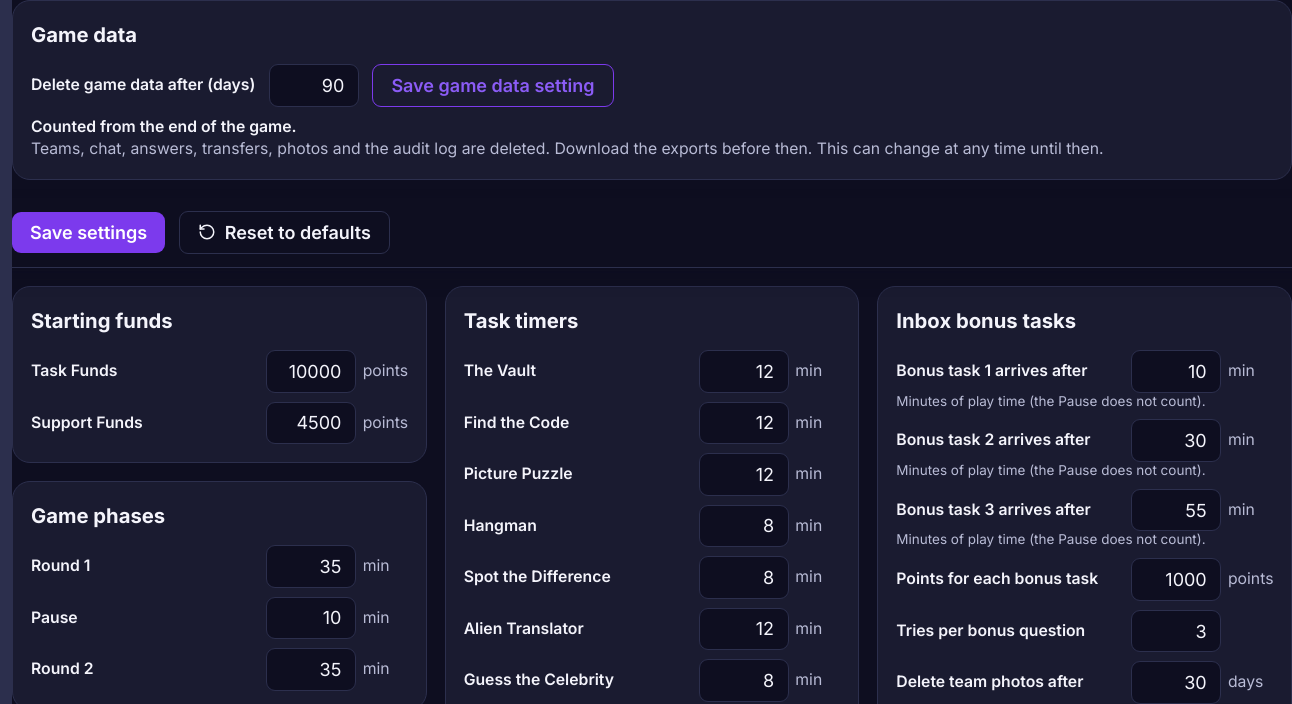
Test case: settings tab › saves minutes as seconds
The image size is (1292, 704).
Replace the text in the field labelled "Round 1" with "2" at (311, 566), box [266, 545, 356, 588]
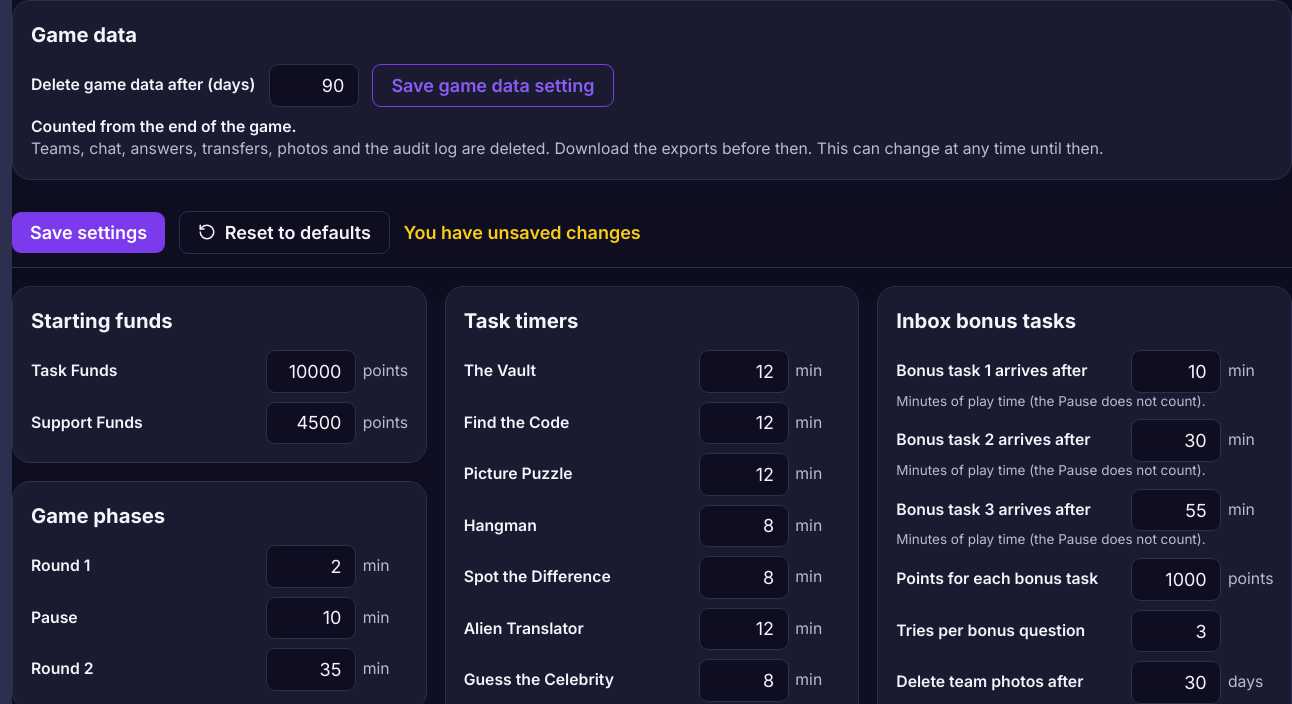
Click the button "Save settings" at (89, 232), box [12, 212, 165, 252]
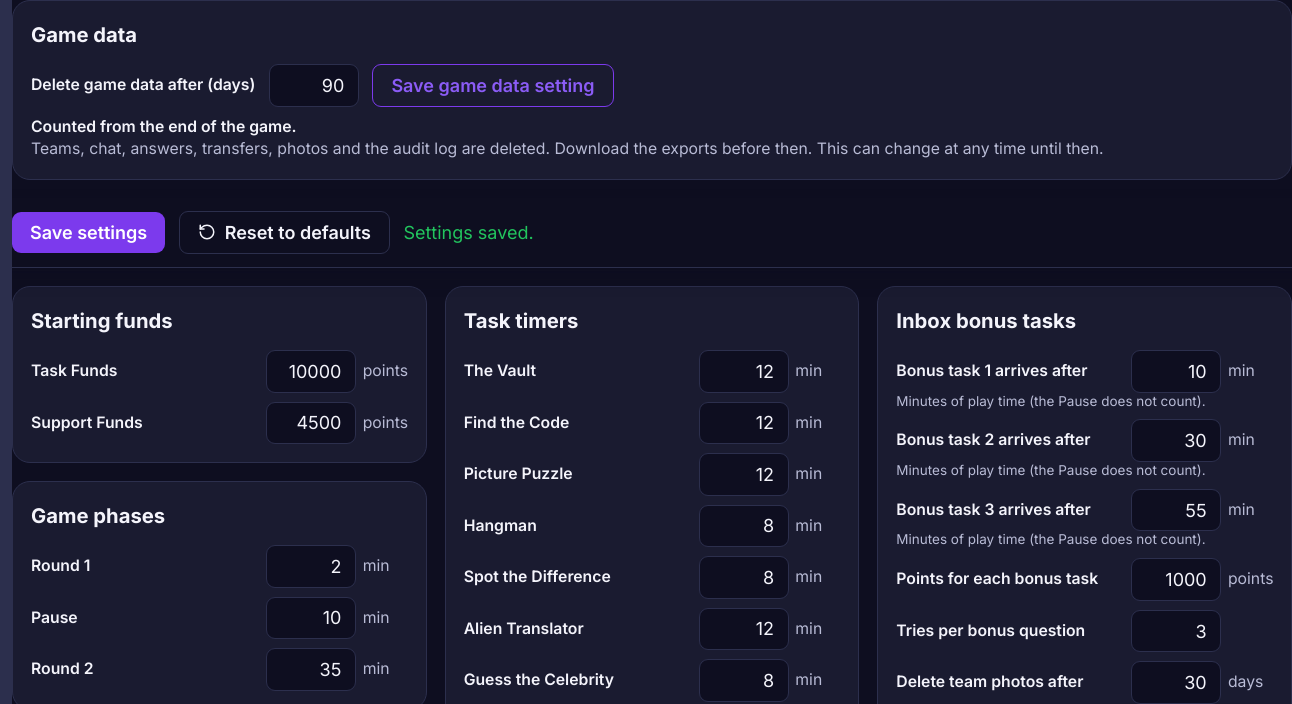
Expected: the text "Settings saved." is shown, [403, 219, 534, 246]
Expected: the text "You have unsaved changes" is gone
